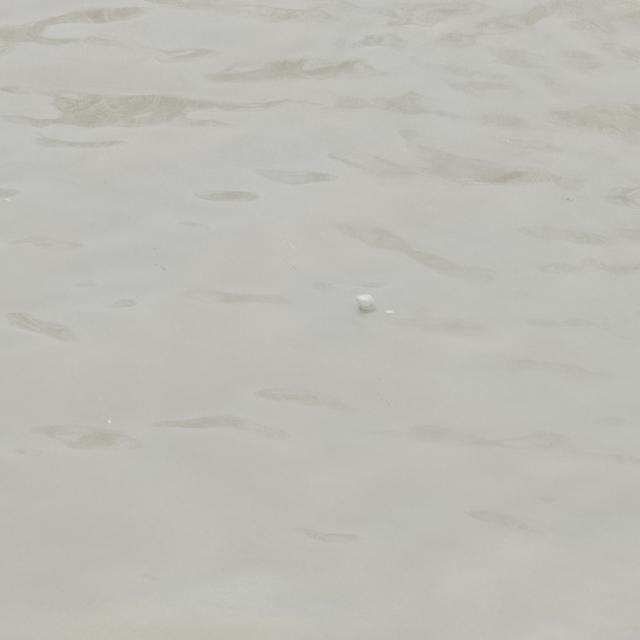Plastic: (349, 289, 385, 320)
